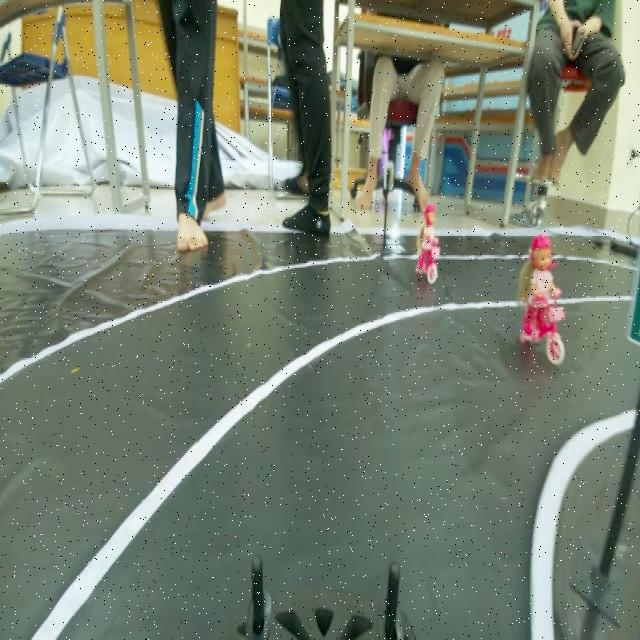pedestrian: (507, 229, 564, 359), (411, 204, 441, 276)
